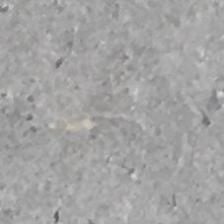Non_Crack: (4, 4, 181, 184)
